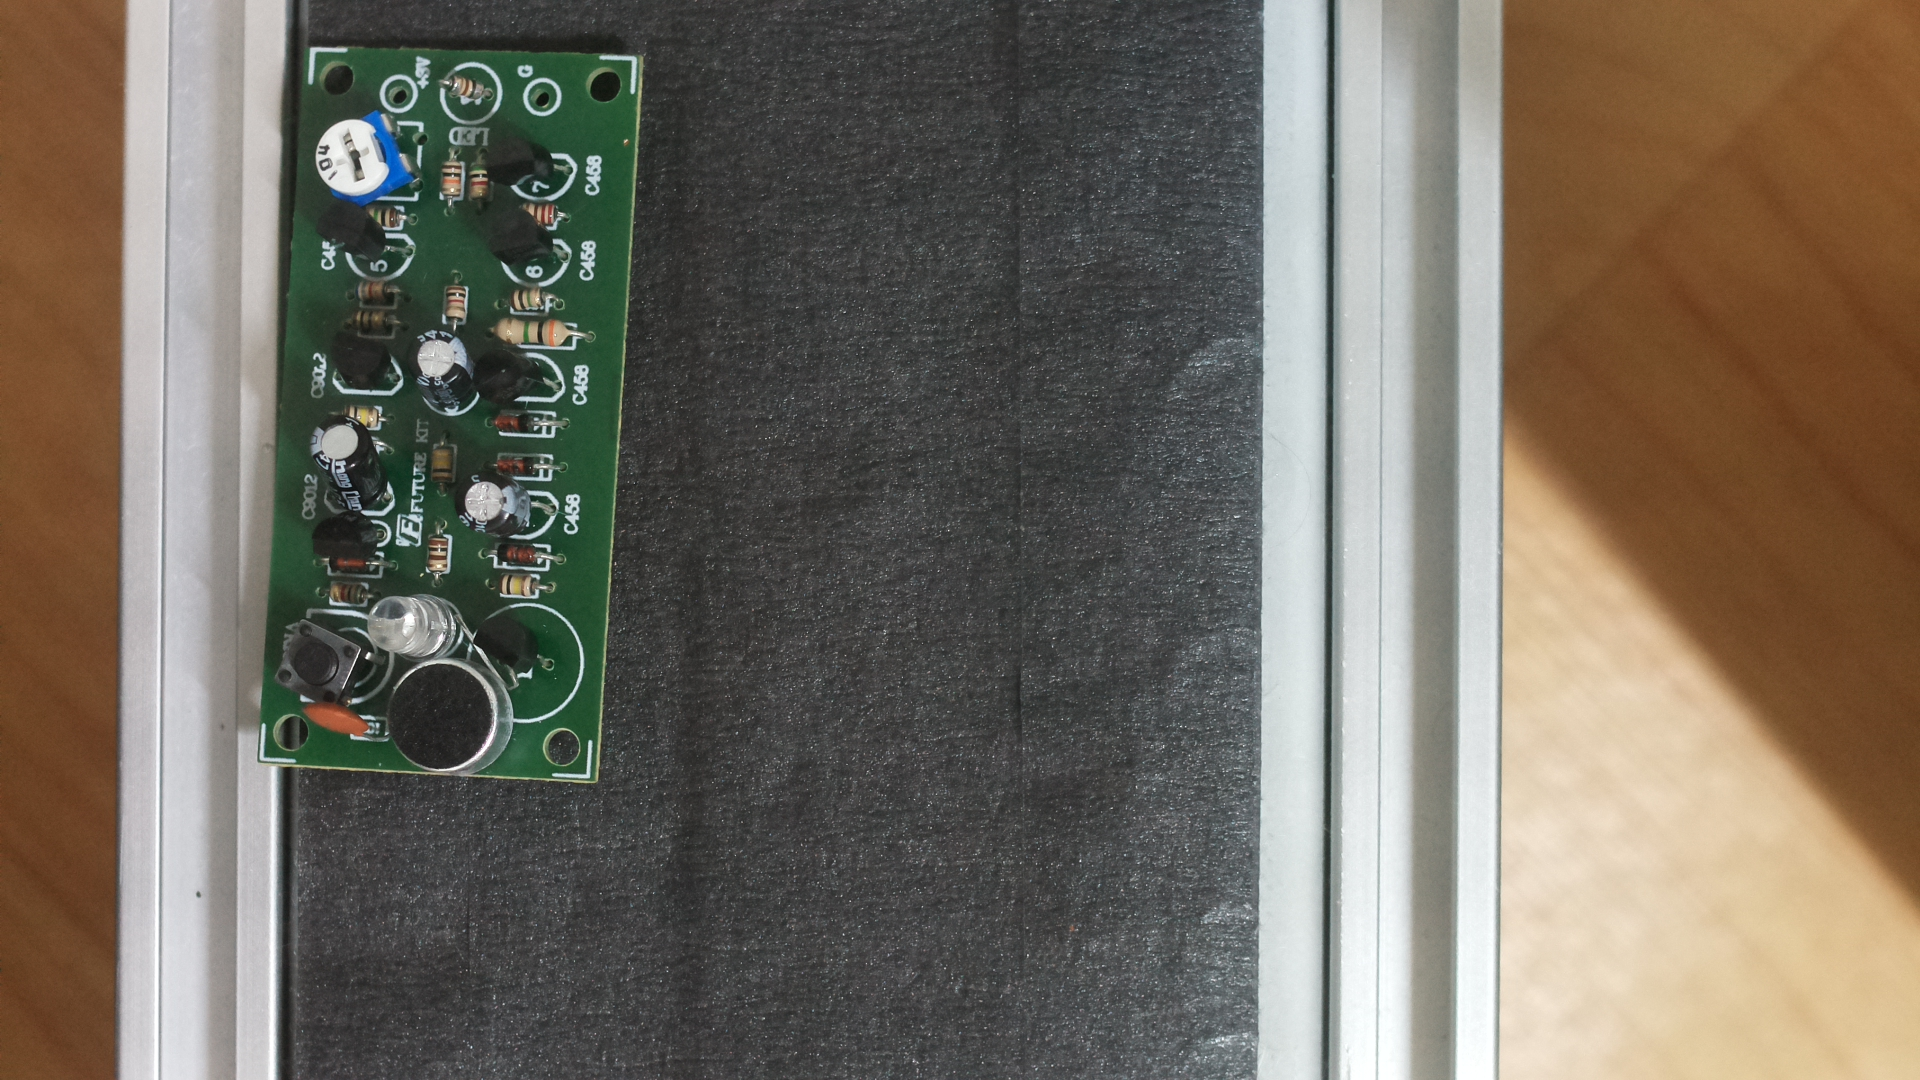A_Misordered: (260, 30, 655, 786)
